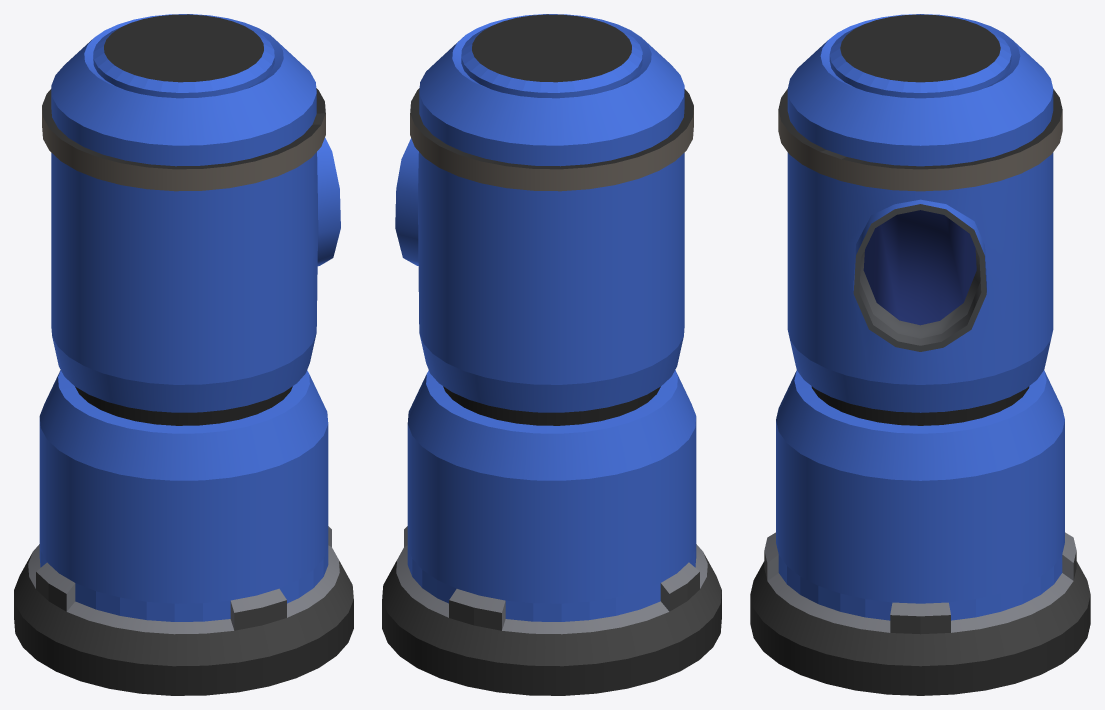
File: ShieldPickup.fbx
The picture shows the model from 3 angles, left to right: view 1: azimuth 30°, elevation 25°; view 2: azimuth 150°, elevation 25°; view 3: azimuth 270°, elevation 25°; orthographic projection.
Parts seen in each view (by area): view 1: Cylinder; view 2: Cylinder; view 3: Cylinder.
Boxes of the visible parts, x1,y1,x2,y2 form: Cylinder: (14,14,353,695); Cylinder: (382,14,721,695); Cylinder: (750,14,1090,695).
Bounding box in the file's own units: 25.35 × 47.31 × 25.35.
